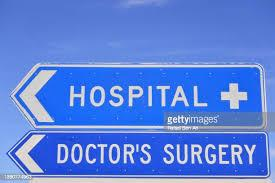Hospital: (20, 61, 249, 126)
